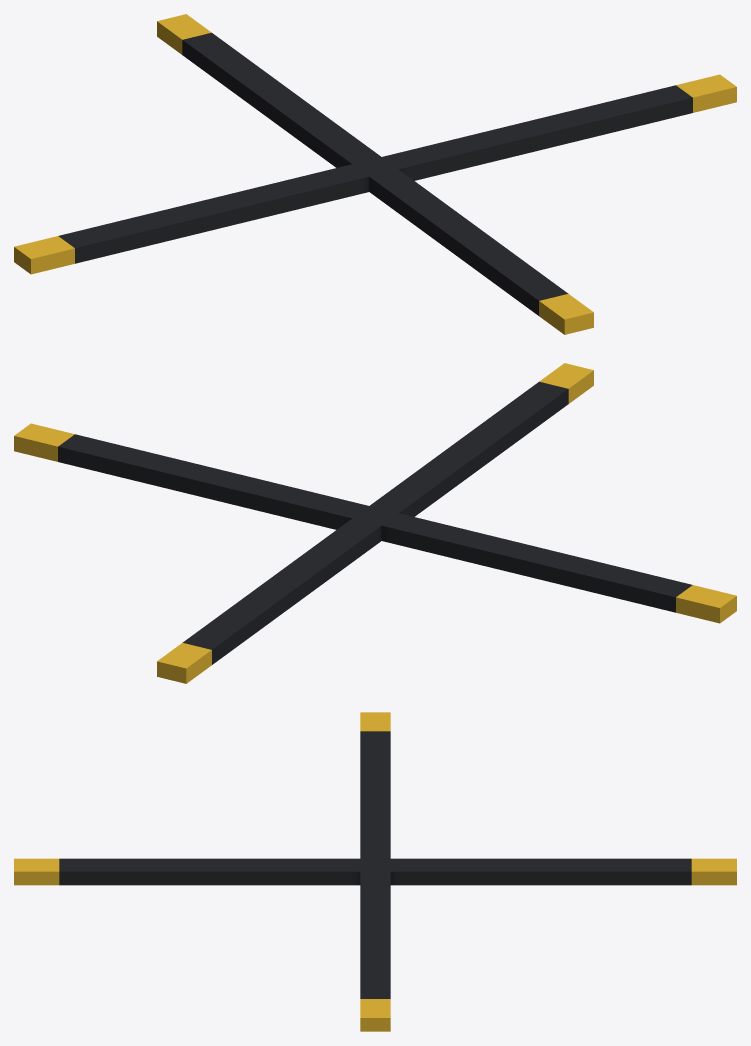
Rendered from cm_rotor.glb.
The picture shows the model from 3 angles, top to bottom: view 1: azimuth 30°, elevation 25°; view 2: azimuth 150°, elevation 25°; view 3: azimuth 270°, elevation 25°; orthographic projection. The views are drawn at different scales.
Visible parts, largest first — view 1: cm_rotor_body; view 2: cm_rotor_body; view 3: cm_rotor_body.
Part boxes in pixels (x1,y1,x2,y2): cm_rotor_body: [14, 14, 736, 334]; cm_rotor_body: [14, 363, 736, 683]; cm_rotor_body: [14, 712, 736, 1031].
Bounding box in the file's own units: 3 × 0.0625 × 3.
1 material, 1 textured.
